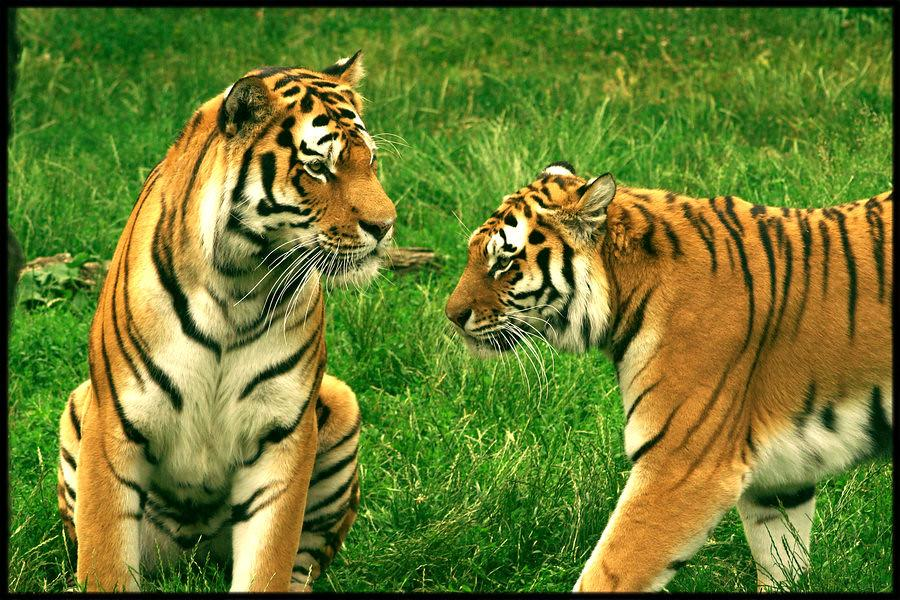tiger: (56, 48, 432, 594), (444, 160, 895, 594)
